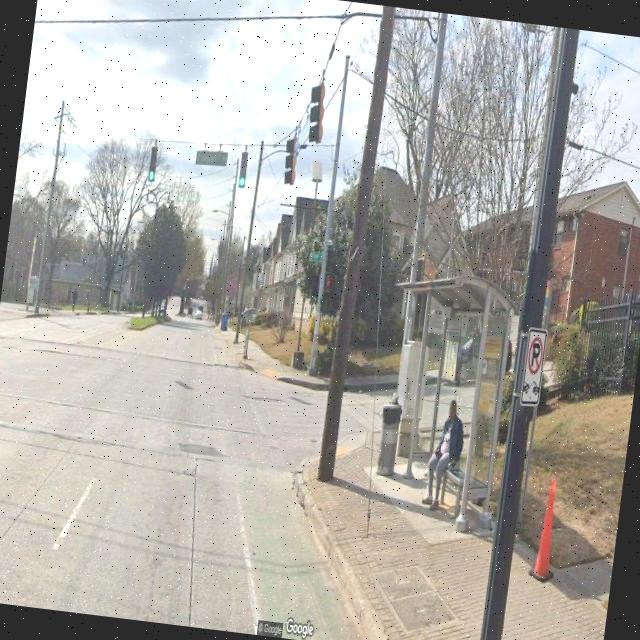seating: (422, 457, 466, 511)
shelter: (366, 266, 523, 532)
trash_can: (373, 402, 402, 477)
